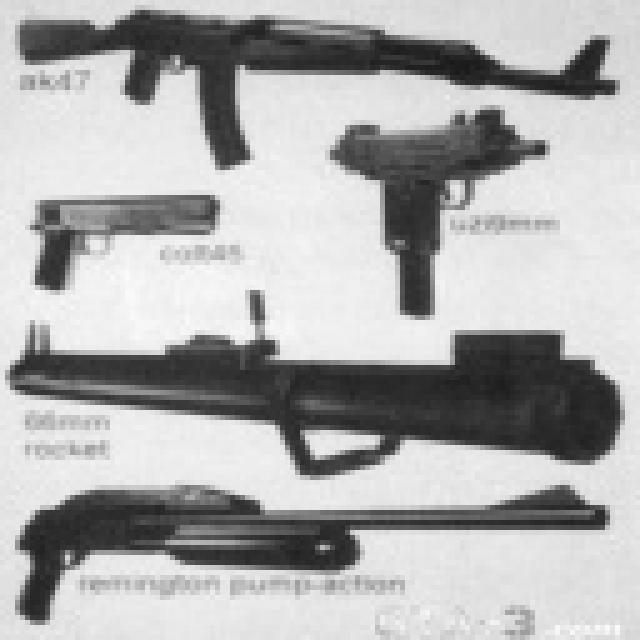Rifle: (0, 287, 640, 478), (0, 462, 640, 636), (0, 0, 615, 170), (315, 96, 580, 327), (12, 173, 262, 309)
